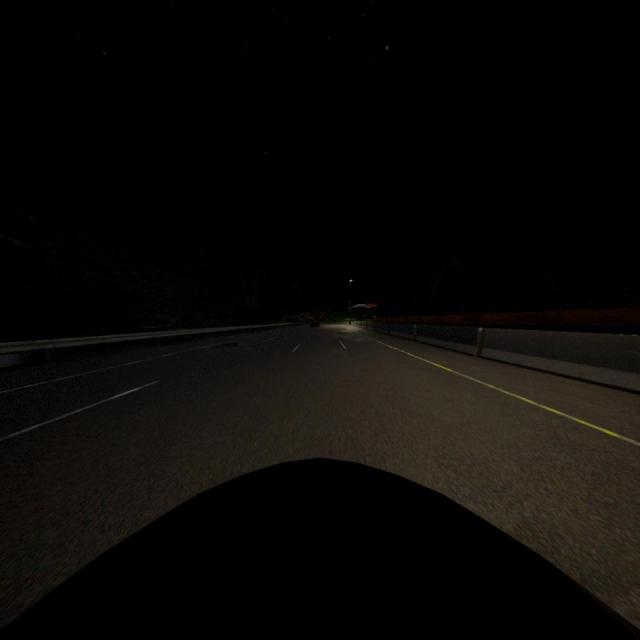Vehicle: (0, 458, 640, 640), (310, 320, 320, 328)
